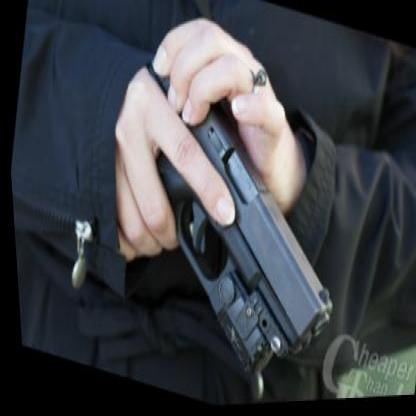pistol: (89, 34, 361, 409)
